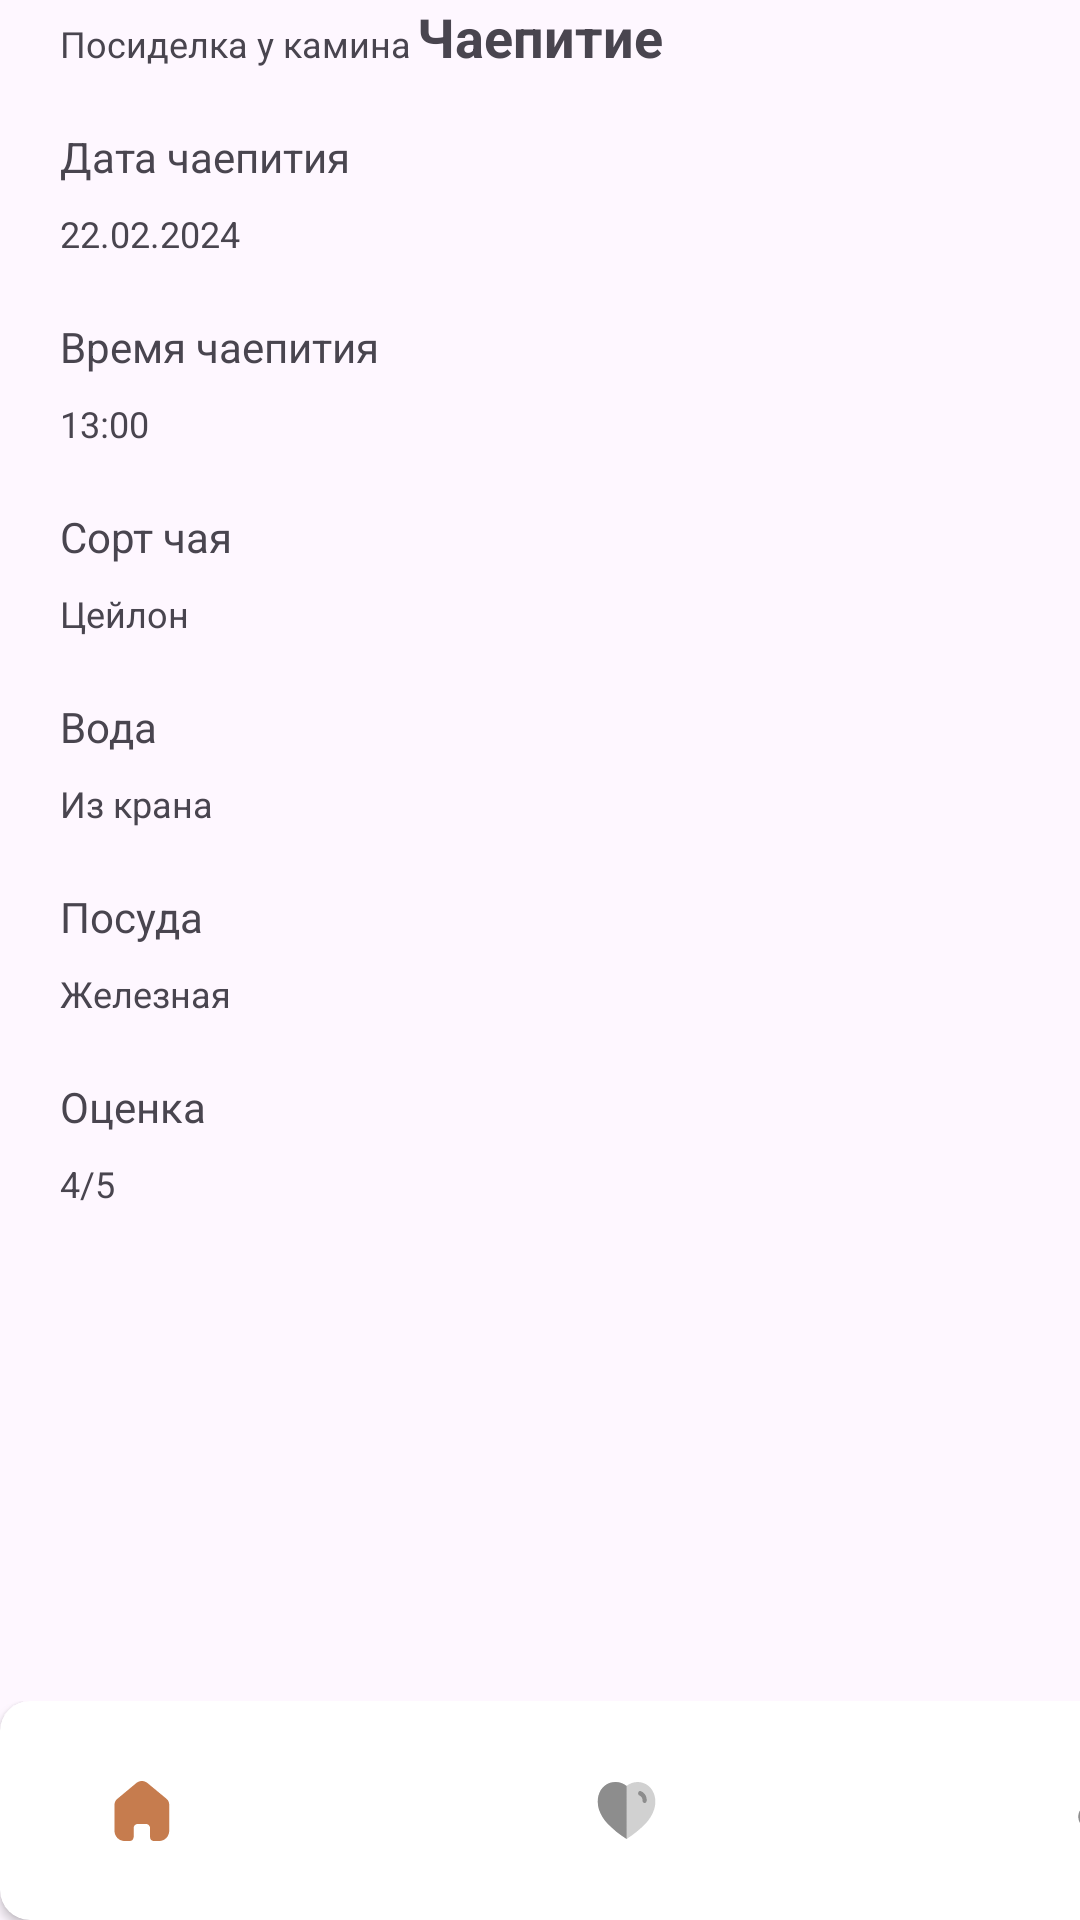

Named icons in this screenshot (1080x1920) and their centers, (x=x, y=y):
heart menu: (x=626, y=1810)
